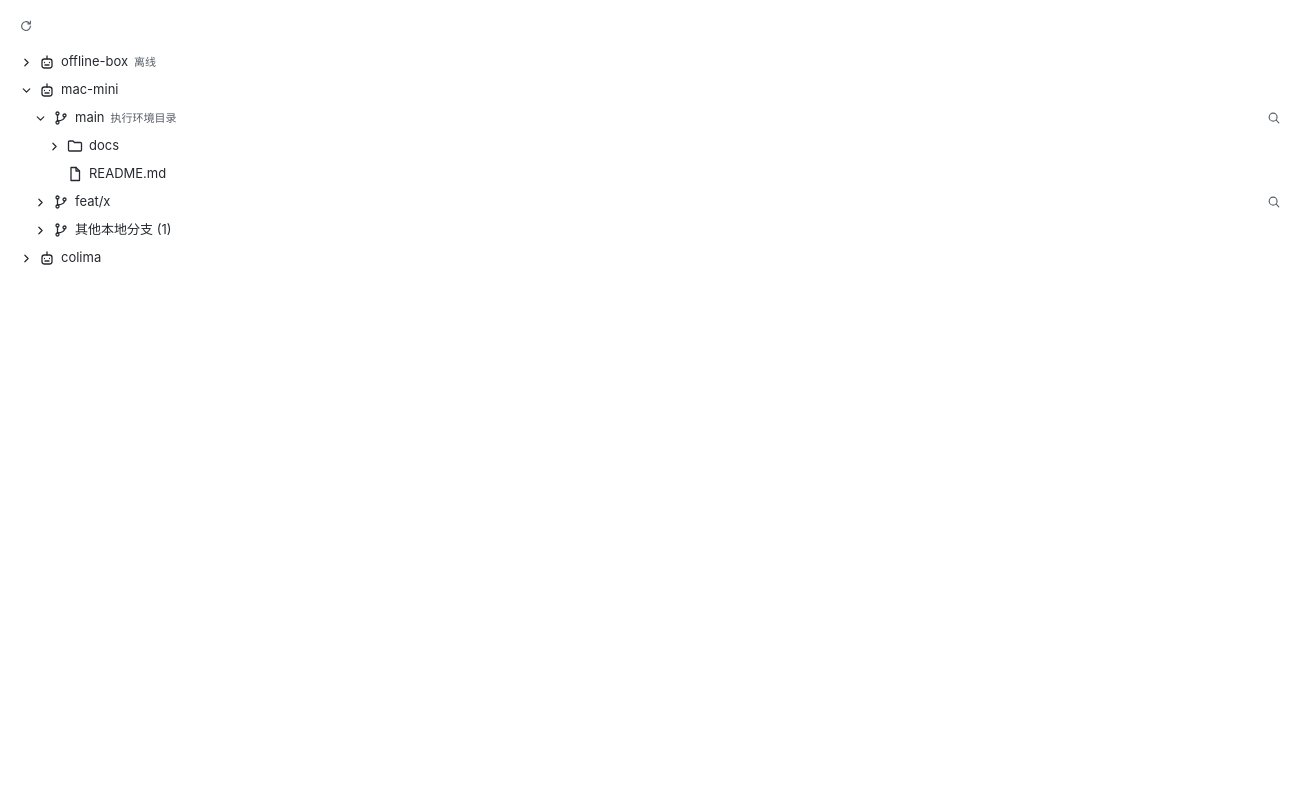
Scenario: searching a branch replaces its children with bounded path matches
Expected: the text "README.md" is shown, [89,164,166,184]
Click the button named "在 main 中搜索": (1274, 118) [1260,104,1288,132]
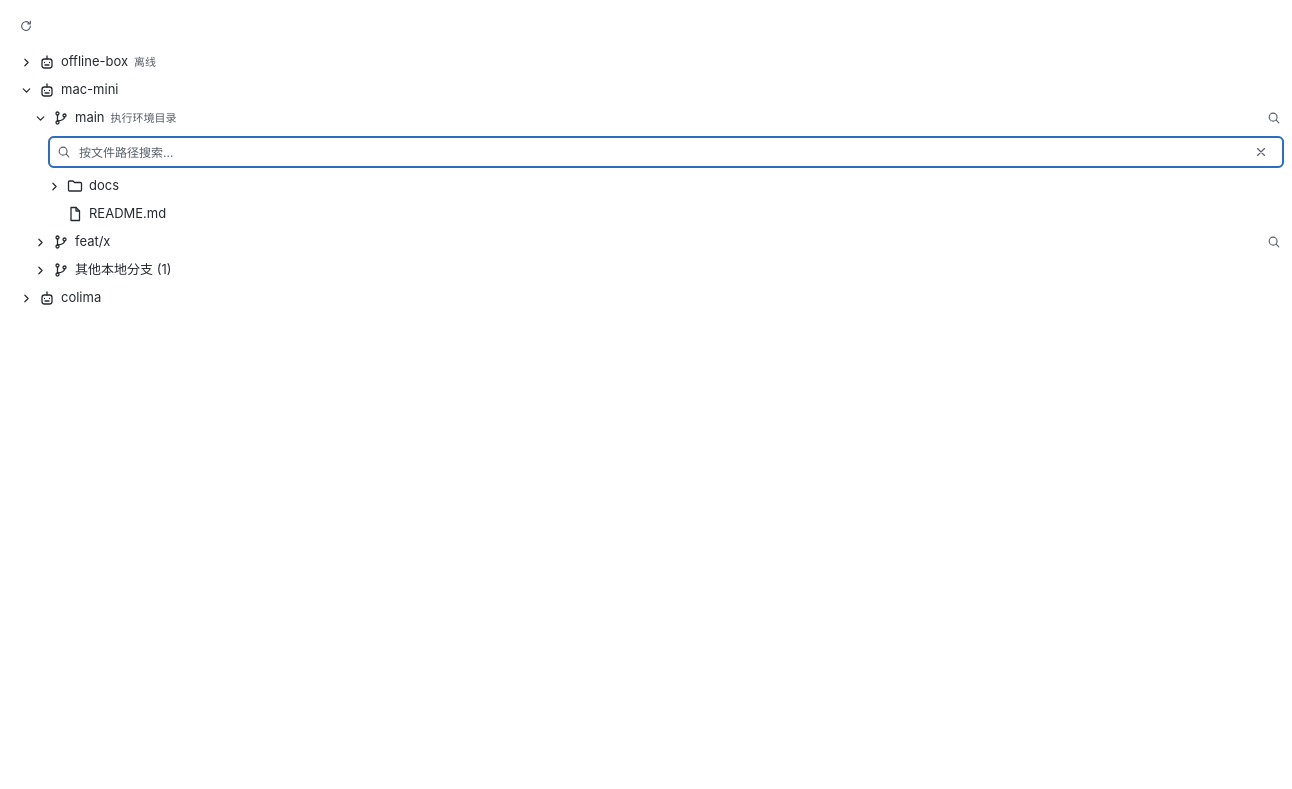
In the search field named "在 main 中按路径搜索": (659, 152) [79,137,1239,167], type " hit "
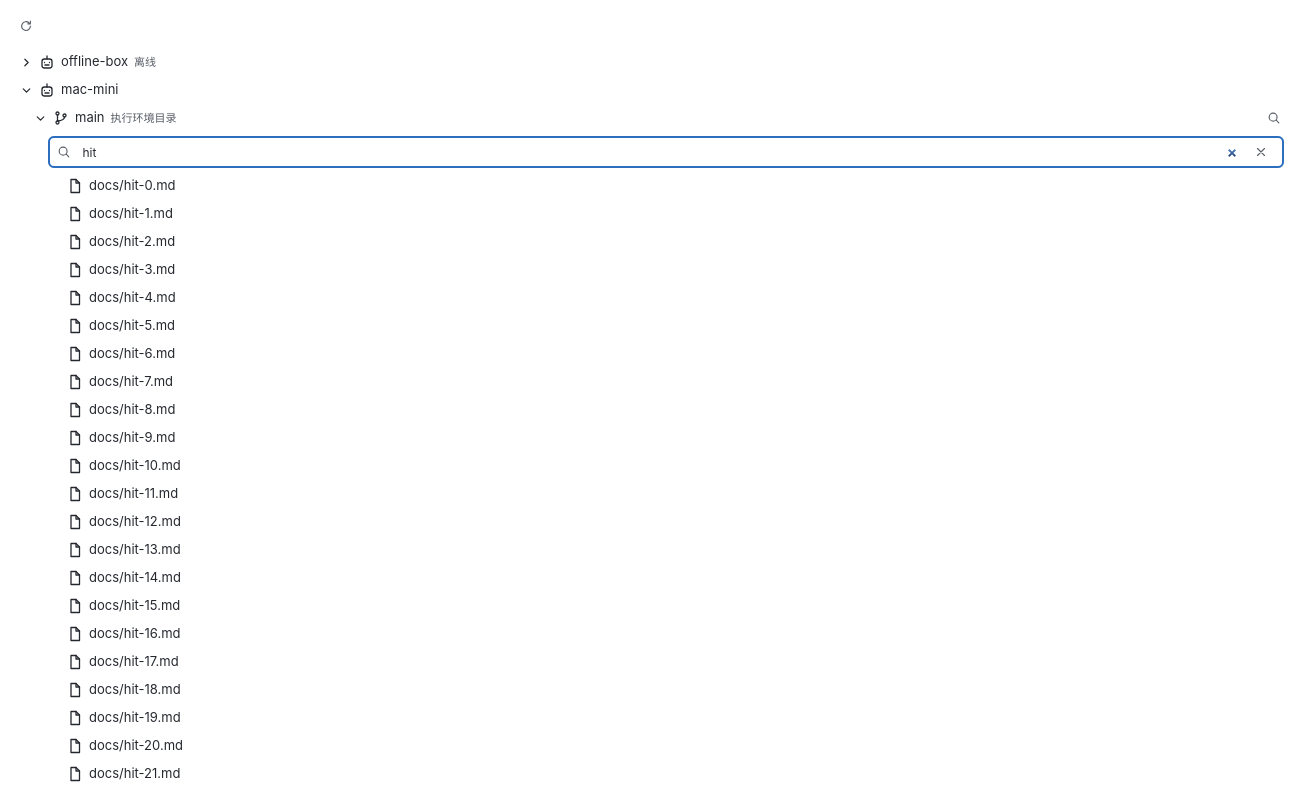
Now the button "README.md" is gone
Press Escape in the search field, box [79,137,1239,167]
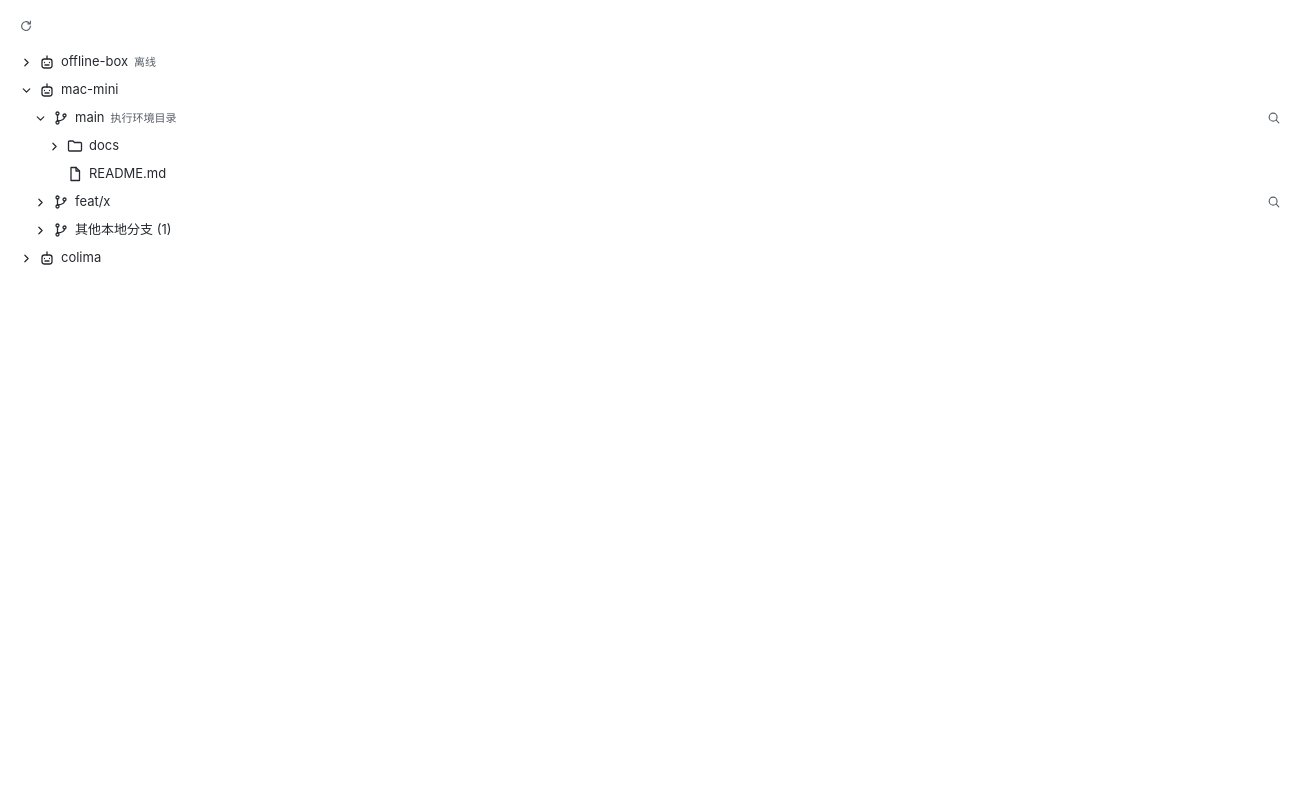
Now the text "README.md" is shown, box [89,164,166,184]
